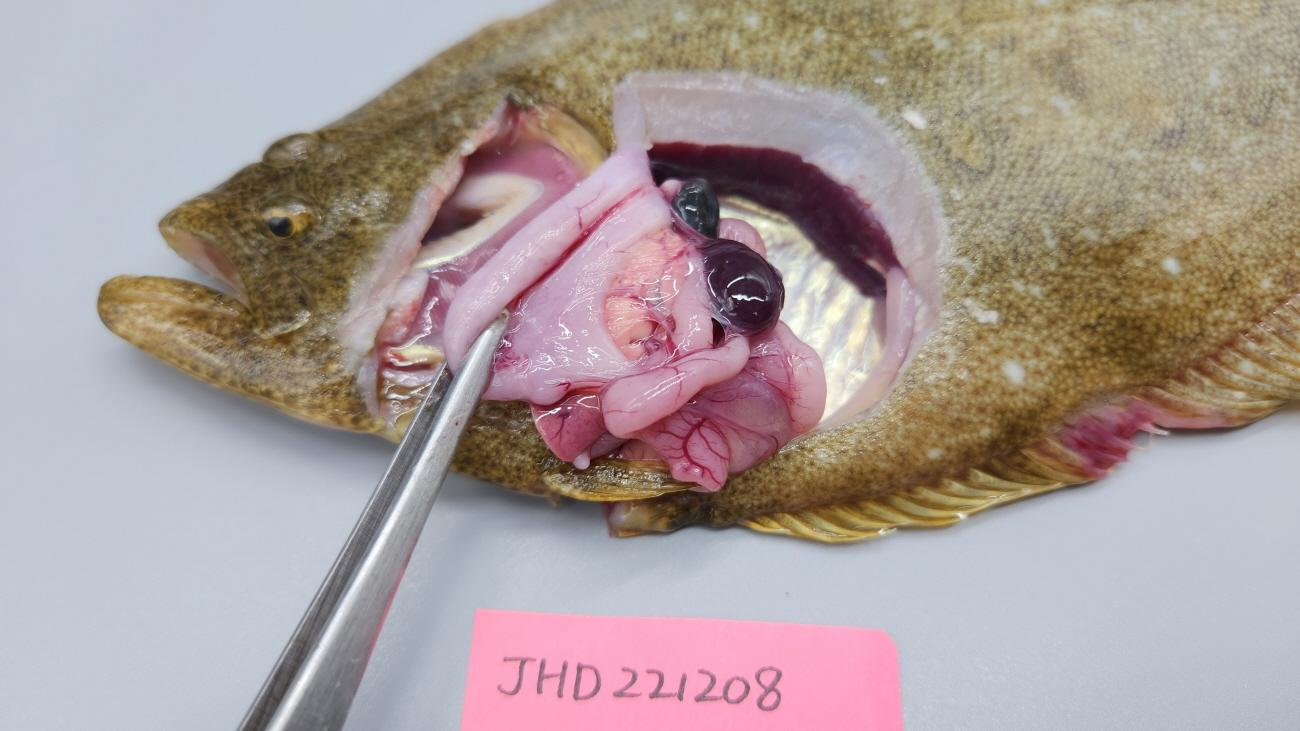VISPE: (697, 238, 784, 332)
